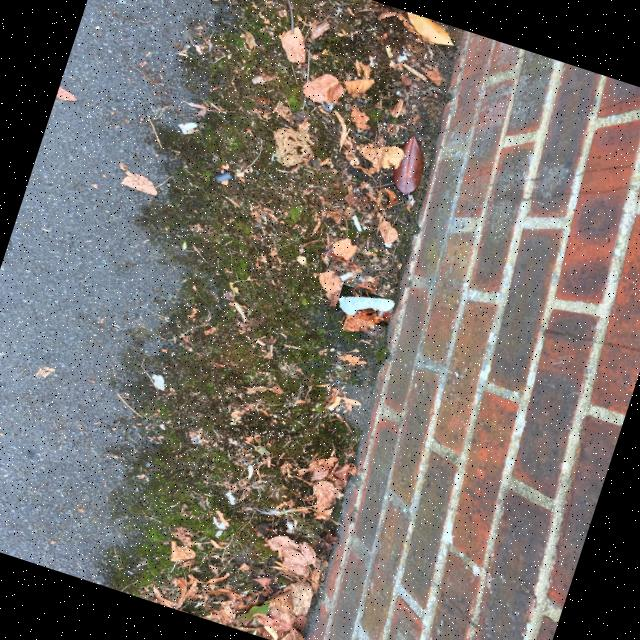Aluminium foil: (338, 297, 395, 316)
Other plastic bottle: (215, 170, 233, 183)
